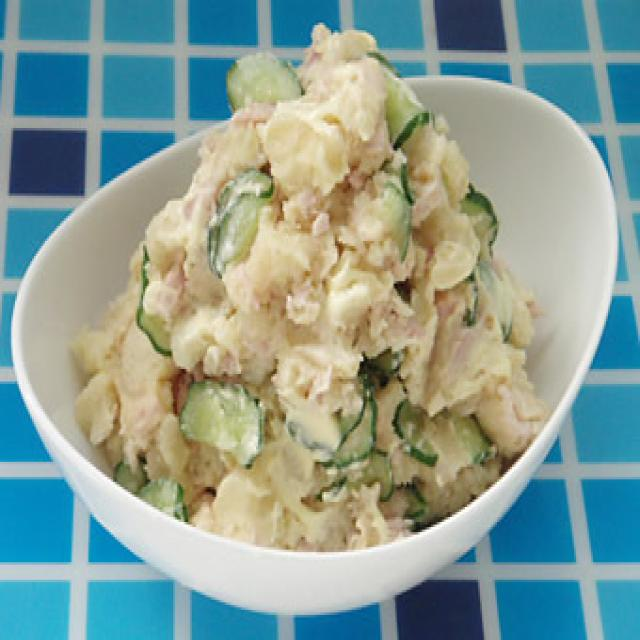蔬菜料理: (8, 17, 620, 615)
